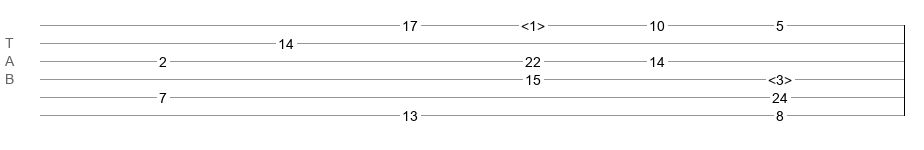10: (649, 18, 665, 28)
13: (402, 108, 418, 118)
14: (278, 36, 294, 46), (649, 54, 665, 64)
15: (525, 72, 541, 82)
17: (402, 18, 418, 28)
2: (159, 54, 167, 64)
22: (525, 54, 541, 64)
24: (772, 90, 788, 100)
5: (776, 18, 784, 28)
7: (159, 90, 167, 100)
8: (776, 108, 784, 118)
harmonic: (521, 18, 545, 28), (768, 72, 792, 82)
